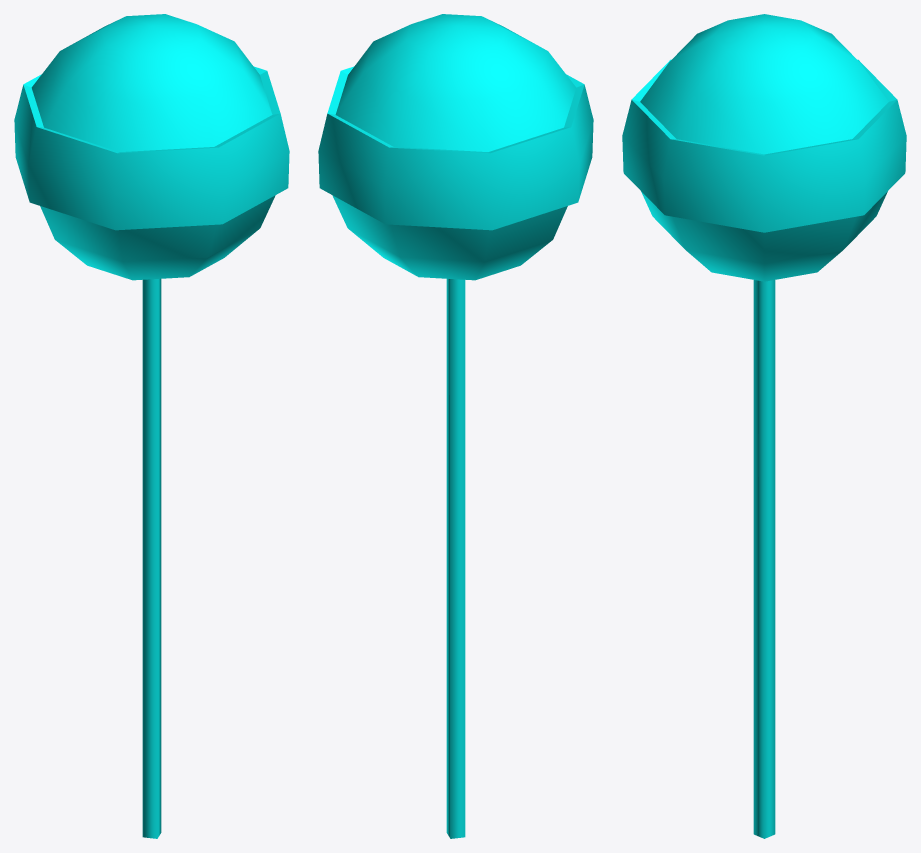
File: Chupachup LP 1.fbx
The picture shows the model from 3 angles, left to right: view 1: azimuth 30°, elevation 25°; view 2: azimuth 150°, elevation 25°; view 3: azimuth 270°, elevation 25°; orthographic projection.
Parts seen in each view (by area): view 1: Chupachup LP; view 2: Chupachup LP; view 3: Chupachup LP.
Part boxes in pixels (box(x1,y1,x2,y2)): Chupachup LP: box(14, 14, 289, 838); Chupachup LP: box(318, 14, 593, 838); Chupachup LP: box(622, 14, 906, 838).
Size of the model in its own units: 121 by 381 by 121.
